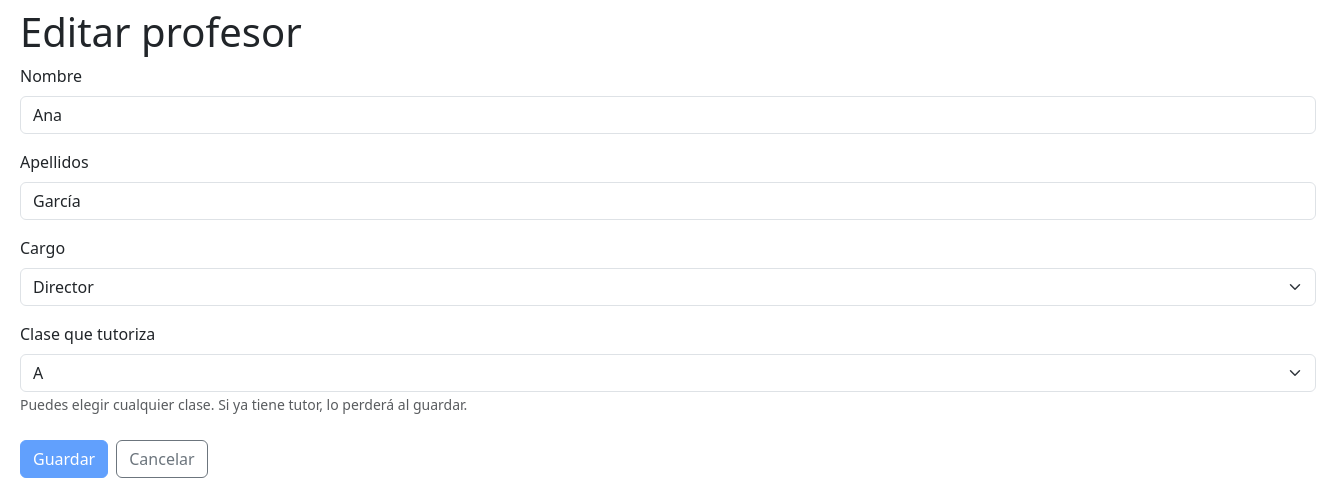
Test: EditProfessorPage › shows the not available view when the professor no longer exists at save time
Type "x" into the field labelled "Nombre" at (668, 115), box top-left (20, 96), bottom-right (1316, 134)
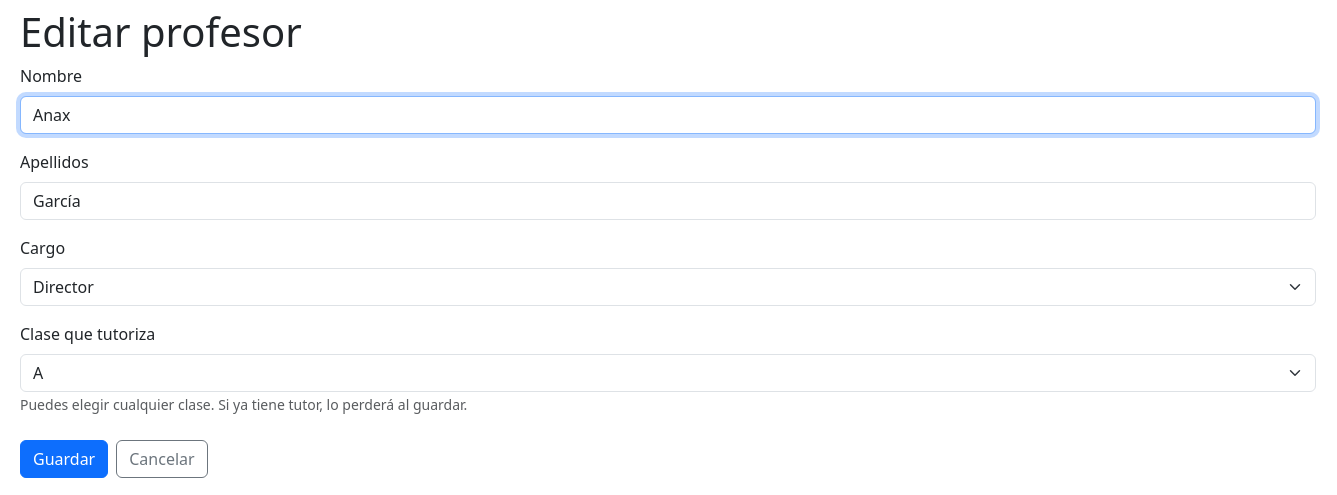
Click the button "Guardar" at (64, 459), box top-left (20, 440), bottom-right (108, 478)
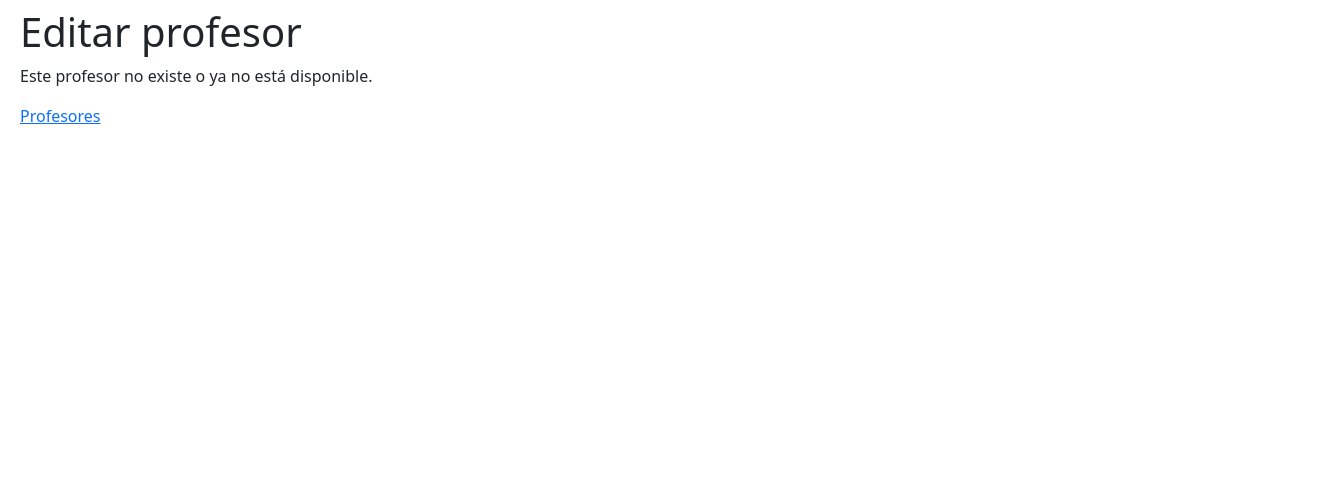
Expected: the text "Este profesor no existe o ya no está disponible." is shown, top-left (20, 65), bottom-right (372, 87)
